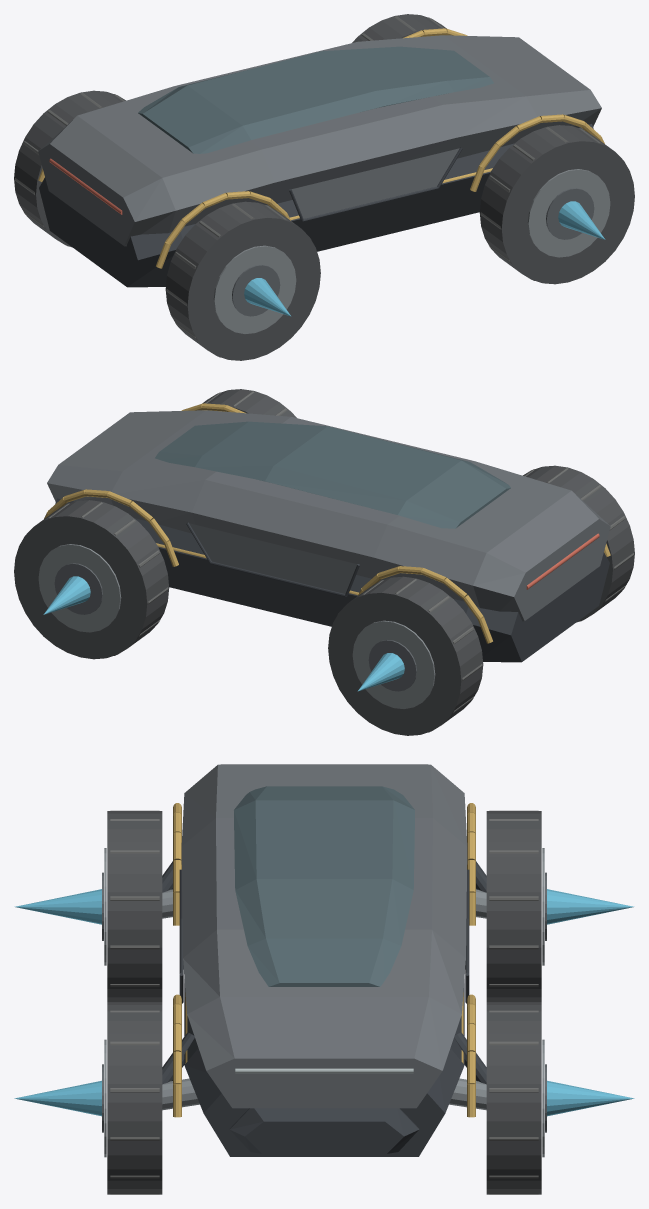
The model's file is maxhog_black_rig.glb.
3 views of the same model, one above another, from view 1: azimuth 30°, elevation 25°; view 2: azimuth 150°, elevation 25°; view 3: azimuth 270°, elevation 25° (orthographic). The views are drawn at different scales.
Parts seen in each view (by area): view 1: body_shell_1, glass_canopy_2, rear_right__tires_20, front_right__tires_24, lower_chassis_0, door_panel_6, rear_left__tires_10, front_right__wheel_hubs_25, rear_right__wheel_hubs_21, wheel_arch_9, front_left__tires_16, rear_right__wheel_centers_22 (+4 smaller); view 2: body_shell_1, glass_canopy_2, rear_left__tires_10, front_left__tires_16, lower_chassis_0, door_panel_6, rear_right__tires_20, front_left__wheel_hubs_17, rear_left__wheel_hubs_11, wheel_arch_9, front_right__tires_24, rear_left__wheel_centers_12 (+4 smaller); view 3: body_shell_1, glass_canopy_2, rear_left__tires_10, rear_right__tires_20, front_left__tires_16, front_right__tires_24, front_bumper_3, lower_chassis_0, wheel_arch_9, suspension_arm_13, flame_rear_left, flame_rear_right (+9 smaller).
Part boxes in pixels (x1,y1,x2,y2): body_shell_1: (38, 35, 601, 246); glass_canopy_2: (138, 46, 493, 153); rear_right__tires_20: (165, 201, 320, 360); front_right__tires_24: (479, 125, 634, 284); lower_chassis_0: (39, 124, 593, 287); door_panel_6: (291, 148, 459, 218); rear_left__tires_10: (14, 90, 125, 247); front_right__wheel_hubs_25: (527, 169, 610, 257); rear_right__wheel_hubs_21: (213, 245, 296, 333); wheel_arch_9: (38, 28, 604, 268); front_left__tires_16: (352, 14, 446, 42); rear_right__wheel_centers_22: (232, 265, 280, 316); body_shell_1: (47, 410, 610, 621); glass_canopy_2: (155, 421, 510, 528); rear_left__tires_10: (328, 576, 483, 735); front_left__tires_16: (14, 500, 169, 659); lower_chassis_0: (55, 498, 609, 662); door_panel_6: (189, 523, 357, 593); rear_right__tires_20: (523, 465, 634, 622); front_left__wheel_hubs_17: (38, 544, 121, 632); rear_left__wheel_hubs_11: (352, 620, 435, 708); wheel_arch_9: (44, 403, 610, 643); front_right__tires_24: (202, 389, 296, 417); rear_left__wheel_centers_12: (368, 640, 416, 691); body_shell_1: (181, 764, 467, 1108); glass_canopy_2: (234, 786, 414, 986); rear_left__tires_10: (486, 811, 541, 1002); rear_right__tires_20: (107, 811, 162, 1002); front_left__tires_16: (486, 1002, 541, 1194); front_right__tires_24: (107, 1002, 162, 1194); front_bumper_3: (229, 1108, 419, 1153); lower_chassis_0: (184, 979, 464, 1156); wheel_arch_9: (173, 803, 475, 1117); suspension_arm_13: (162, 889, 486, 1110); flame_rear_left: (547, 889, 634, 924); flame_rear_right: (14, 889, 101, 924).
Size of the model in its own units: 5.04 by 1.81 by 4.52.
